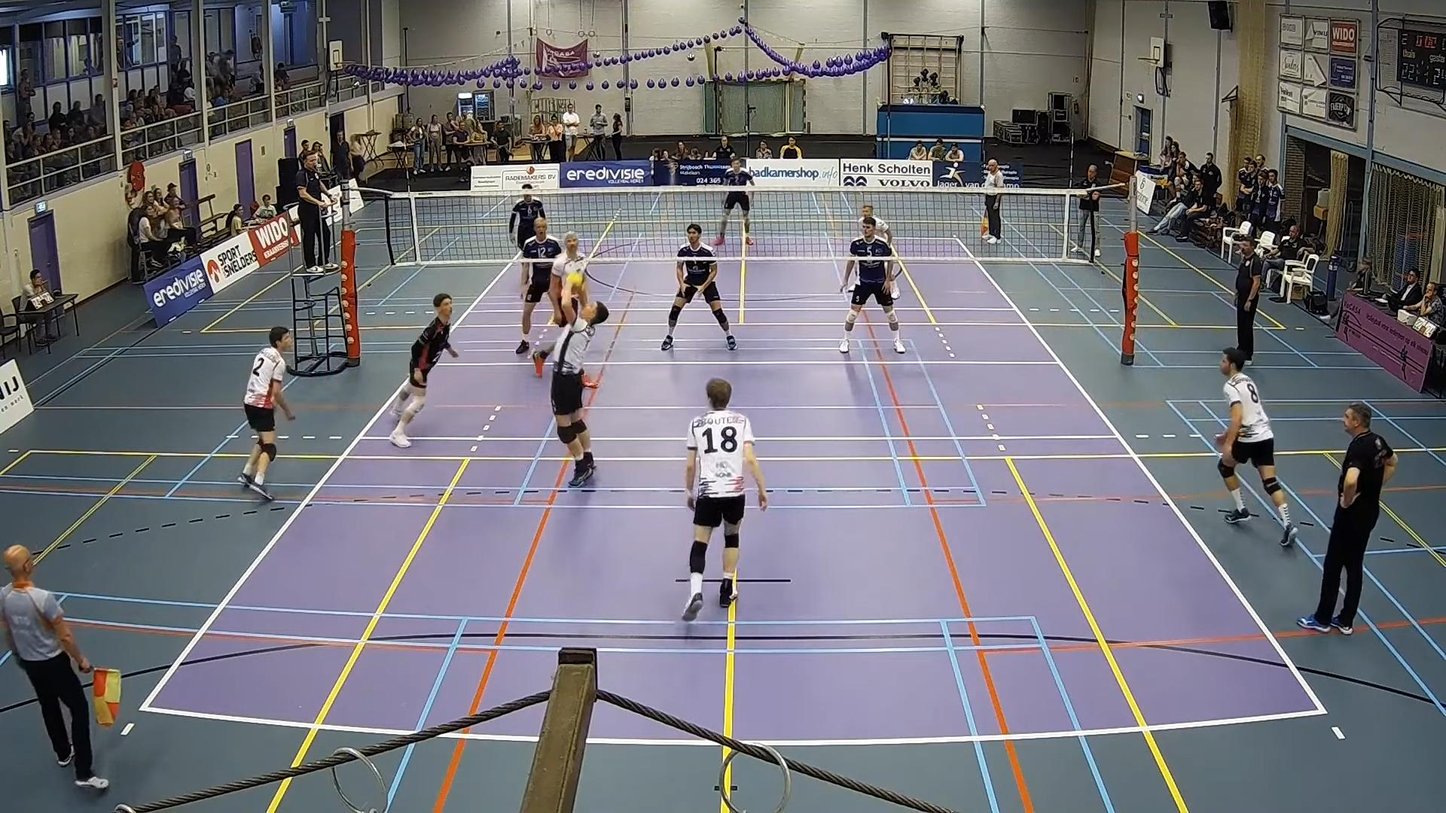Player: (682, 379, 767, 621), (1216, 348, 1297, 546), (389, 294, 457, 447), (239, 326, 294, 500), (661, 224, 736, 350), (838, 218, 905, 353), (515, 218, 563, 355), (713, 158, 753, 245), (560, 232, 590, 324), (508, 184, 545, 249), (858, 204, 893, 245)
Set: (529, 284, 598, 474)
ball: (558, 269, 591, 288)
